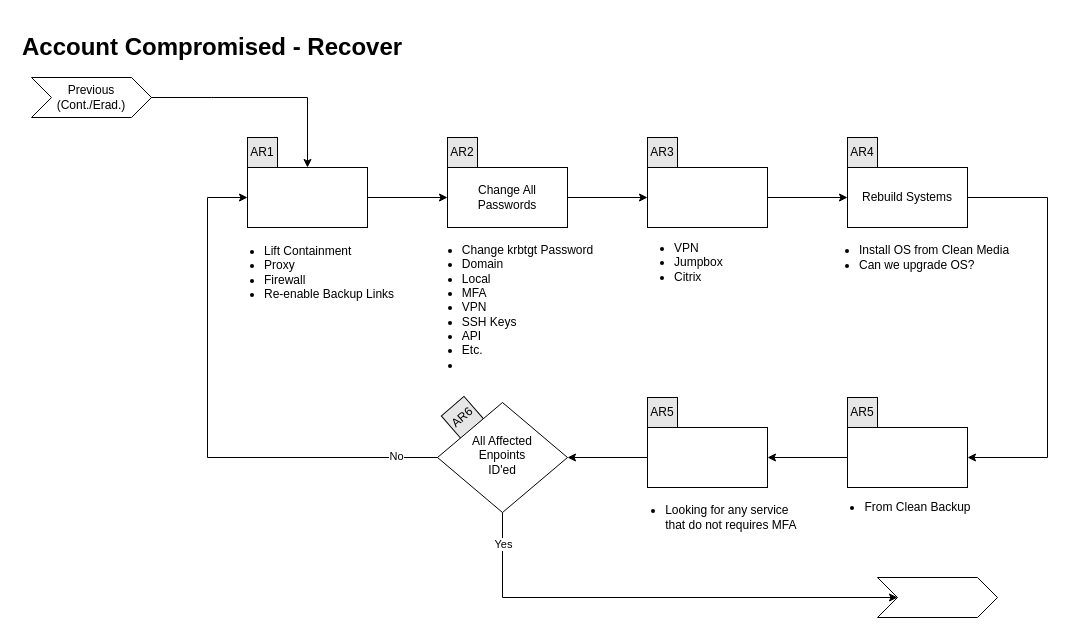
The diagram is 1073 pixels wide and 635 high, and some of its shapes have lost their labels. The shapes that lost their labels are listed below. From the top down, each one's centre as x and y in pixels, then its label:
At point (307, 197): "Update Defenses".
At point (707, 197): "Remove".
At point (707, 457): "Audit Internet Facing Services".
At point (907, 457): "Restore Data".
At point (937, 597): "Next (Post Incident)".
